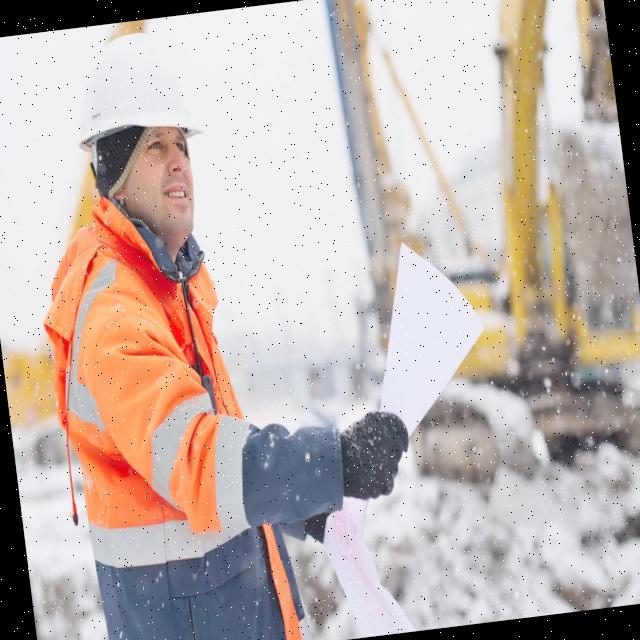Helmet: (66, 26, 206, 158)
Jacket: (56, 227, 252, 640)
